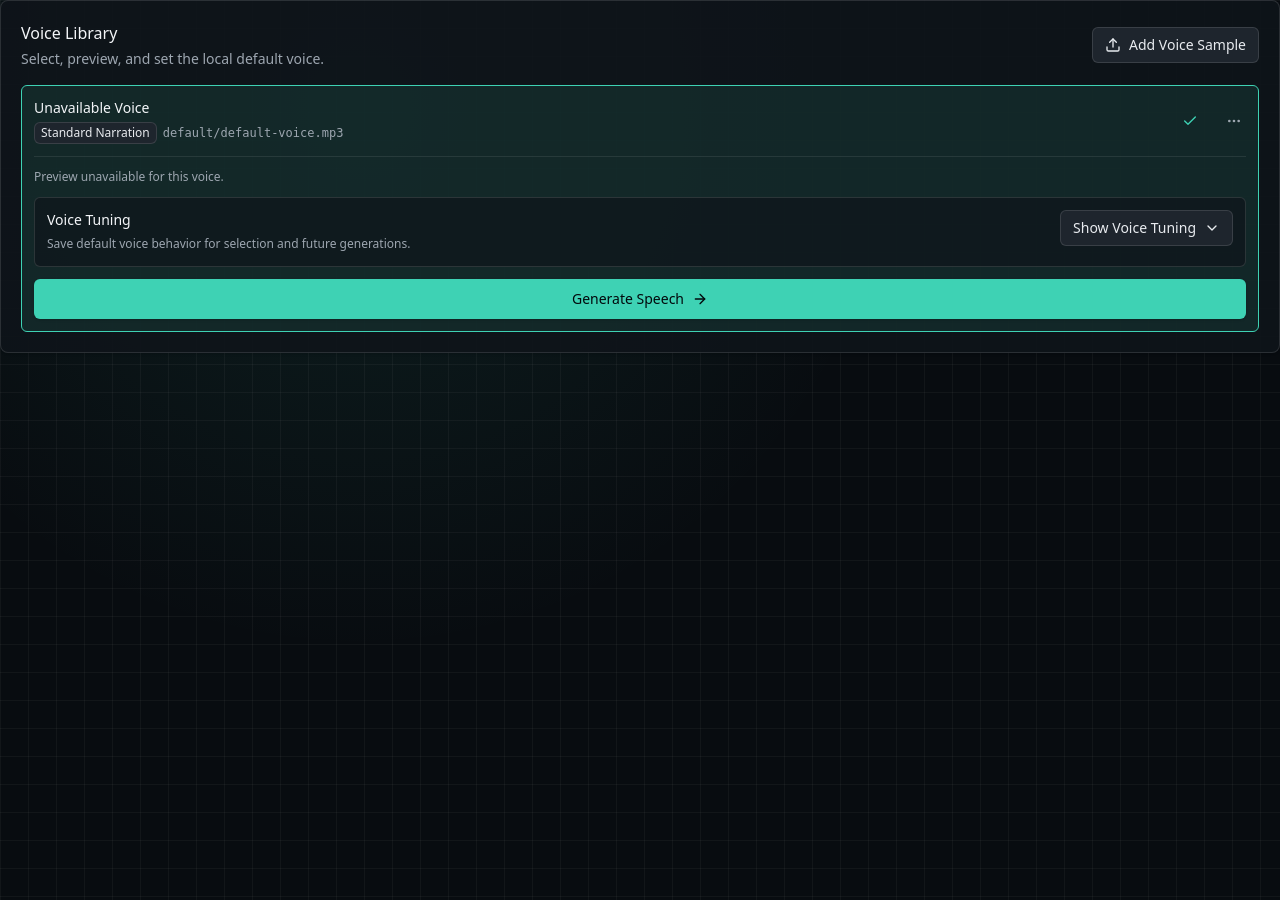
it: VoiceLibraryPanel voice tuning › reports an unavailable preview without making a media request
The image size is (1280, 900).
Expected: the message reads "Preview unavailable for this voice.", x1=34 y1=168 x2=224 y2=185
Click the button named "Open actions for Unavailable Voice" at (1234, 121), box x1=1214 y1=101 x2=1254 y2=141
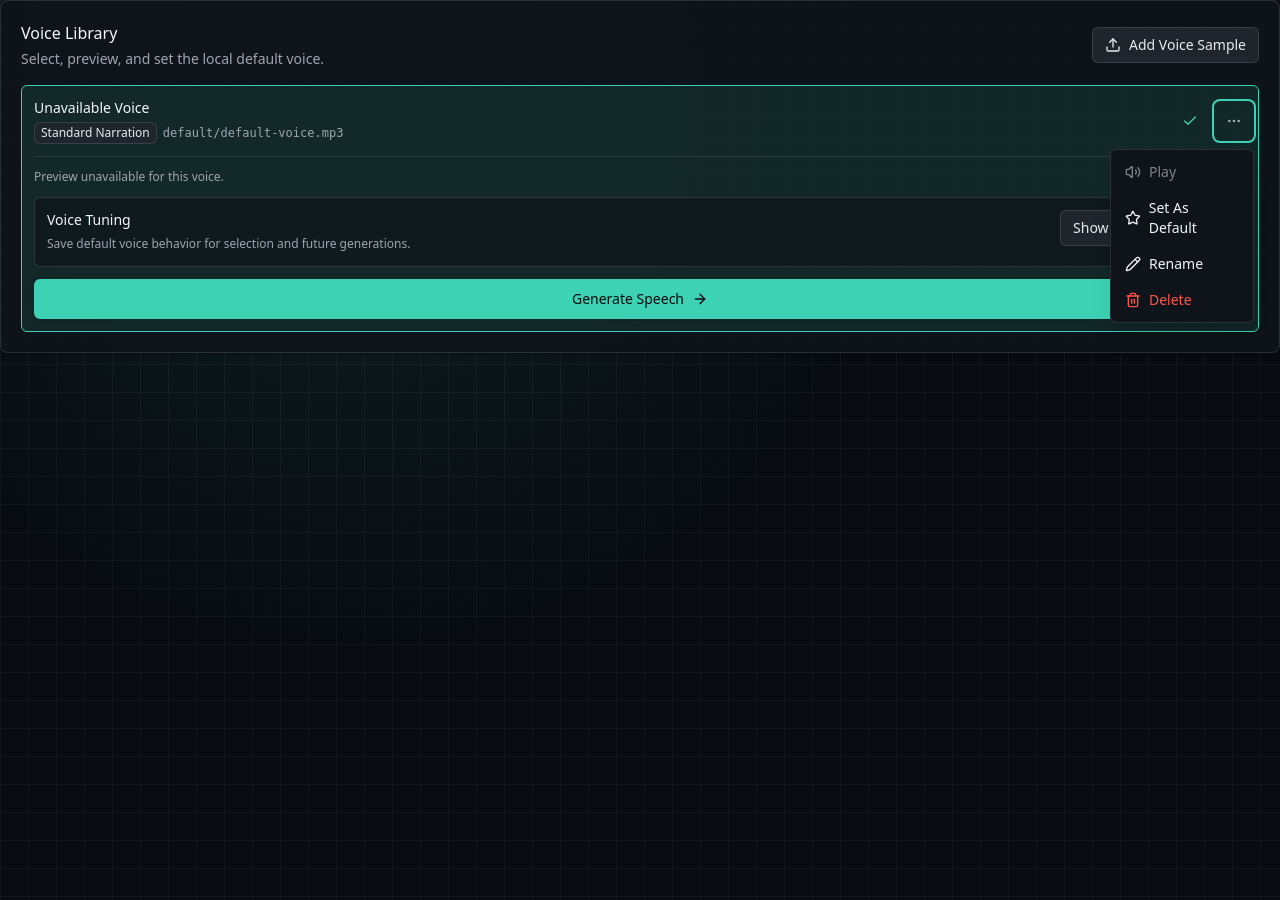
Expected: the menu item "Play" is disabled, x1=1115 y1=154 x2=1249 y2=190
